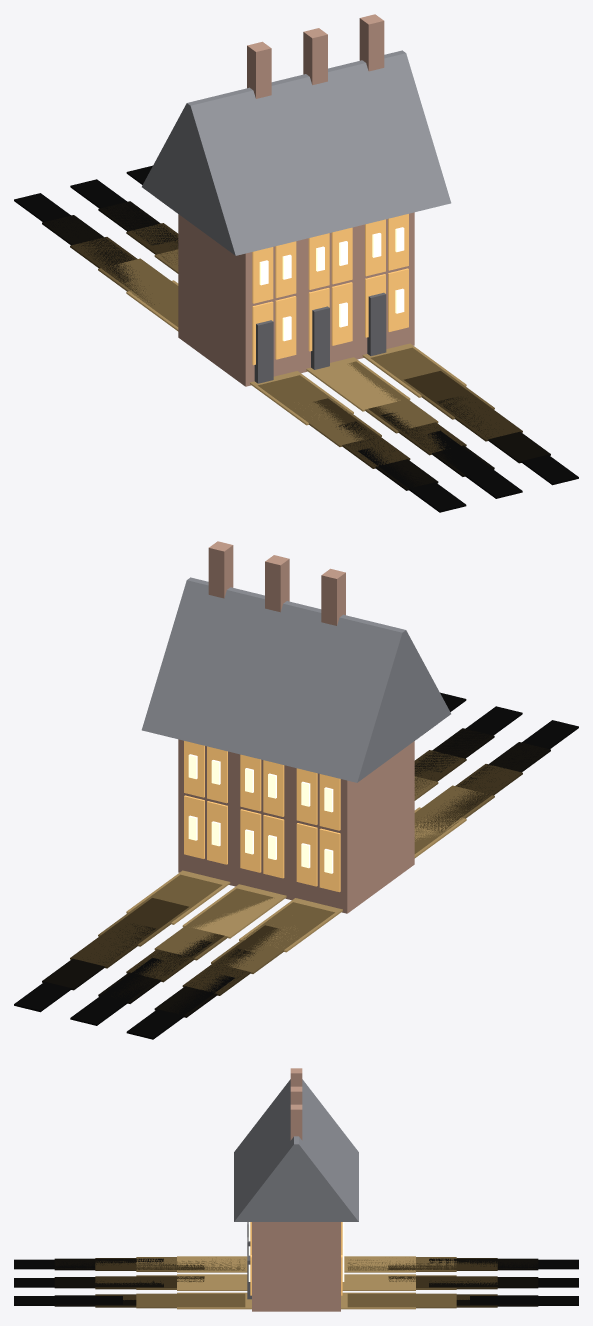
The model's file is town_terrace_3.glb.
The picture shows the model from 3 angles, top to bottom: view 1: azimuth 30°, elevation 25°; view 2: azimuth 150°, elevation 25°; view 3: azimuth 270°, elevation 25°; orthographic projection. The views are drawn at different scales.
Visible parts, largest first — view 1: town_terrace_3; view 2: town_terrace_3; view 3: town_terrace_3.
Part boxes in pixels (box(x1,y1,x2,y2)): town_terrace_3: box(14, 14, 578, 512); town_terrace_3: box(14, 541, 578, 1039); town_terrace_3: box(14, 1068, 578, 1311).
Bounding box in the file's own units: 0.7548 × 1.02 × 2.58.
